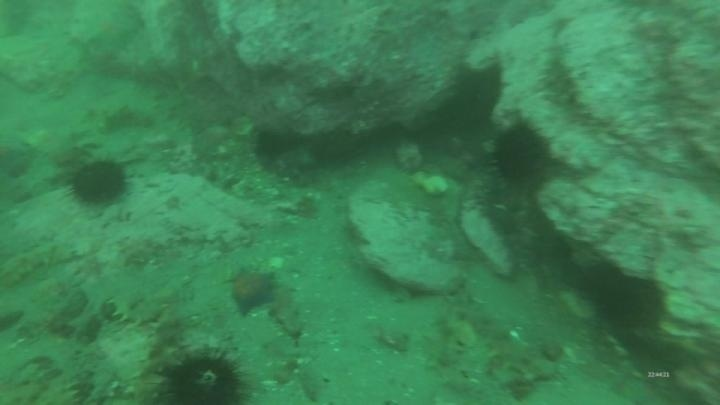echinus: (158, 346, 250, 404), (590, 270, 668, 335), (488, 119, 553, 188), (448, 62, 507, 127), (65, 157, 132, 209), (251, 126, 289, 163)
holothurian: (453, 305, 552, 385), (131, 303, 187, 402), (444, 316, 500, 391), (1, 237, 75, 290), (99, 281, 173, 330), (268, 275, 307, 341), (99, 103, 158, 136)
starfish: (225, 265, 280, 317), (82, 7, 141, 55)
